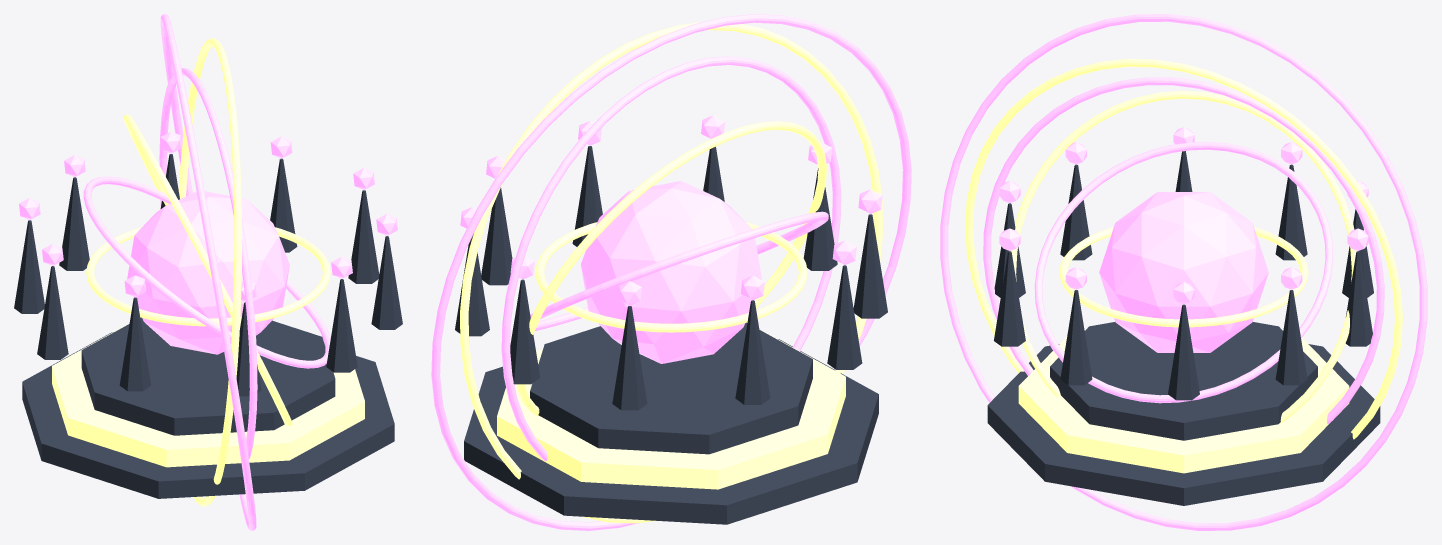
File: gpu-blender-v6.glb
3 renders of one model, left to right at view 1: azimuth 30°, elevation 25°; view 2: azimuth 150°, elevation 25°; view 3: azimuth 270°, elevation 25°, orthographic. The views are drawn at different scales.
Visible parts, largest first — view 1: Cylinder.002, Cylinder, SovereignCore_agent-capsule-jail, Cylinder.001, Torus.005, Torus.004, Torus.001, Torus.003, Torus, Torus.002, Cone.006, Cone.008 (+7 smaller); view 2: Cylinder.002, SovereignCore_agent-capsule-jail, Cylinder, Cylinder.001, Torus.005, Torus.003, Torus.004, Torus.002, Torus, Torus.001, Cone.003, Cone.004 (+8 smaller); view 3: SovereignCore_agent-capsule-jail, Cylinder.002, Cylinder, Cylinder.001, Torus.005, Torus.004, Torus.003, Torus.001, Torus.002, Torus, Cone, Cone.001 (+7 smaller).
Part boxes in pixels (bbox=[...]): Cylinder.002: bbox=[81, 317, 335, 435]; Cylinder: bbox=[22, 332, 394, 498]; SovereignCore_agent-capsule-jail: bbox=[127, 191, 289, 354]; Cylinder.001: bbox=[52, 324, 364, 467]; Torus.005: bbox=[160, 14, 256, 530]; Torus.004: bbox=[178, 38, 241, 506]; Torus.001: bbox=[83, 176, 330, 368]; Torus.003: bbox=[159, 68, 257, 458]; Torus: bbox=[86, 227, 330, 326]; Torus.002: bbox=[123, 114, 292, 425]; Cone.006: bbox=[119, 297, 150, 391]; Cone.008: bbox=[326, 279, 357, 372]; Cylinder.002: bbox=[530, 322, 812, 454]; SovereignCore_agent-capsule-jail: bbox=[581, 181, 761, 363]; Cylinder: bbox=[464, 339, 878, 524]; Cylinder.001: bbox=[497, 330, 845, 489]; Torus.005: bbox=[431, 14, 911, 530]; Torus.003: bbox=[501, 56, 841, 461]; Torus.004: bbox=[460, 22, 882, 523]; Torus.002: bbox=[517, 121, 826, 415]; Torus: bbox=[535, 222, 807, 332]; Torus.001: bbox=[530, 211, 828, 330]; Cone.003: bbox=[612, 306, 647, 410]; Cone.004: bbox=[735, 300, 770, 404]; SovereignCore_agent-capsule-jail: bbox=[1099, 192, 1268, 352]; Cylinder.002: bbox=[1050, 322, 1317, 440]; Cylinder: bbox=[987, 344, 1380, 505]; Cylinder.001: bbox=[1018, 336, 1349, 473]; Torus.005: bbox=[940, 14, 1427, 530]; Torus.004: bbox=[965, 59, 1402, 439]; Torus.003: bbox=[983, 77, 1384, 423]; Torus.001: bbox=[1034, 141, 1333, 403]; Torus.002: bbox=[1010, 90, 1357, 423]; Torus: bbox=[1059, 227, 1308, 327]; Cone: bbox=[1168, 304, 1199, 400]; Cone.001: bbox=[1275, 290, 1307, 385].
Bounding box in the file's own units: 4.41 × 5.93 × 5.46.
